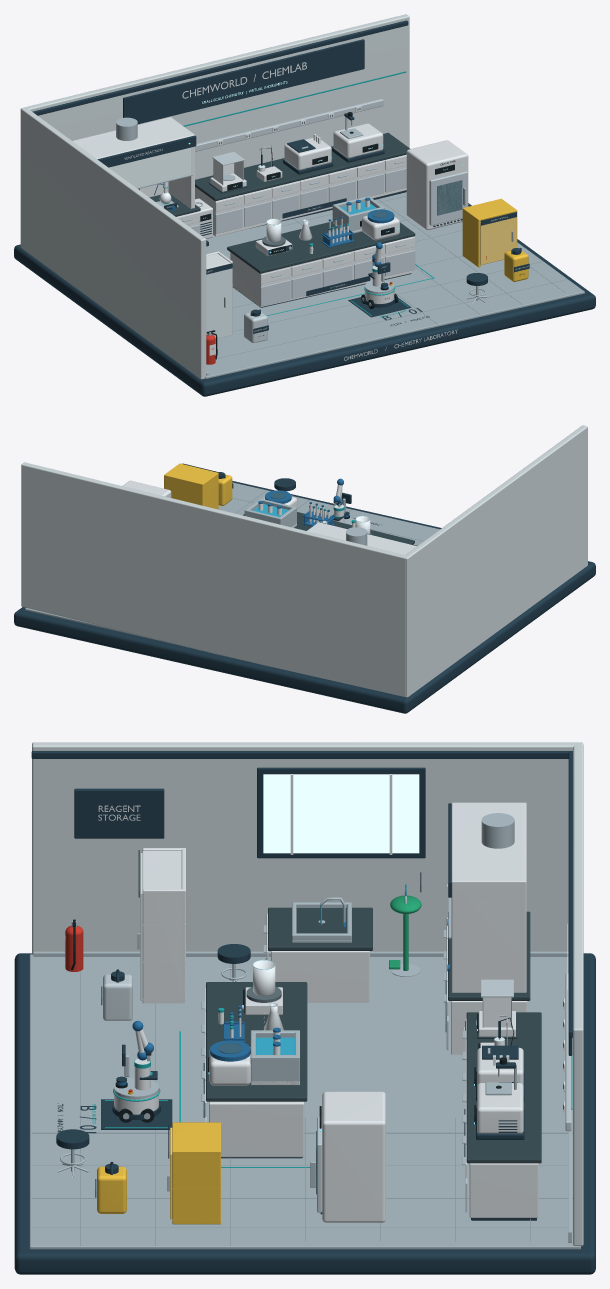
File: chemlab.glb
The picture shows the model from 3 angles, top to bottom: view 1: azimuth 30°, elevation 25°; view 2: azimuth 150°, elevation 25°; view 3: azimuth 270°, elevation 25°; orthographic projection. The views are drawn at different scales.
Visible parts, largest first — view 1: ENV__west_wall, ENV__floor, ENV__north_wall, ENV__foundation, ENV__lab_sign, bench_analysis, bench_preparation, bench_preparation__worktop, oven_01__body, bench_analysis__worktop, ENV__top_trim, bench_preparation__cabinet (+18 smaller); view 2: ENV__north_wall, ENV__west_wall, ENV__foundation, ENV__floor, hood_01__roof, cabinet_solvents__back, cabinet_solvents__shelf.002, cabinet_solvents__side, bench_preparation__worktop, waste_solvent__container; view 3: ENV__floor, ENV__west_wall, ENV__foundation, ENV__window, oven_01__body, hood_01__pillar.001, bench_analysis__worktop, bench_preparation__worktop, ENV__north_wall, bench_preparation__cabinet, hood_01__roof, cabinet_salts__side.001 (+27 smaller).
Part boxes in pixels (x1,y1,x2,y2): ENV__west_wall: (20,107,206,379); ENV__floor: (205,192,584,378); ENV__north_wall: (23,14,409,179); ENV__foundation: (14,203,595,396); ENV__lab_sign: (123,39,364,124); bench_analysis: (215,155,406,233); bench_preparation: (260,237,415,306); bench_preparation__worktop: (227,221,415,273); oven_01__body: (406,140,468,230); bench_analysis__worktop: (195,132,409,201); ENV__top_trim: (32,20,408,115); bench_preparation__cabinet: (230,237,412,307); ENV__north_wall: (21,462,407,697); ENV__west_wall: (405,425,587,697); ENV__foundation: (14,481,595,713); ENV__floor: (25,482,439,644); hood_01__roof: (308,523,416,554); cabinet_solvents__back: (164,474,203,505); cabinet_solvents__shelf.002: (164,463,218,485); cabinet_solvents__side: (201,473,218,509); bench_preparation__worktop: (243,512,414,544); waste_solvent__container: (218,474,232,505); ENV__floor: (29,954,580,1249); ENV__west_wall: (32,742,582,955); ENV__foundation: (14,953,595,1274); ENV__window: (263,774,419,853); oven_01__body: (322,1091,385,1222); hood_01__pillar.001: (451,878,526,992); bench_analysis__worktop: (466,1012,541,1163); bench_preparation__worktop: (206,982,307,1101); ENV__north_wall: (573,743,583,1246); bench_preparation__cabinet: (209,1101,304,1157); hood_01__roof: (451,802,526,898); cabinet_salts__side.001: (142,889,185,1003).
Size of the model in its own units: 9.25 by 3.6 by 7.76.
